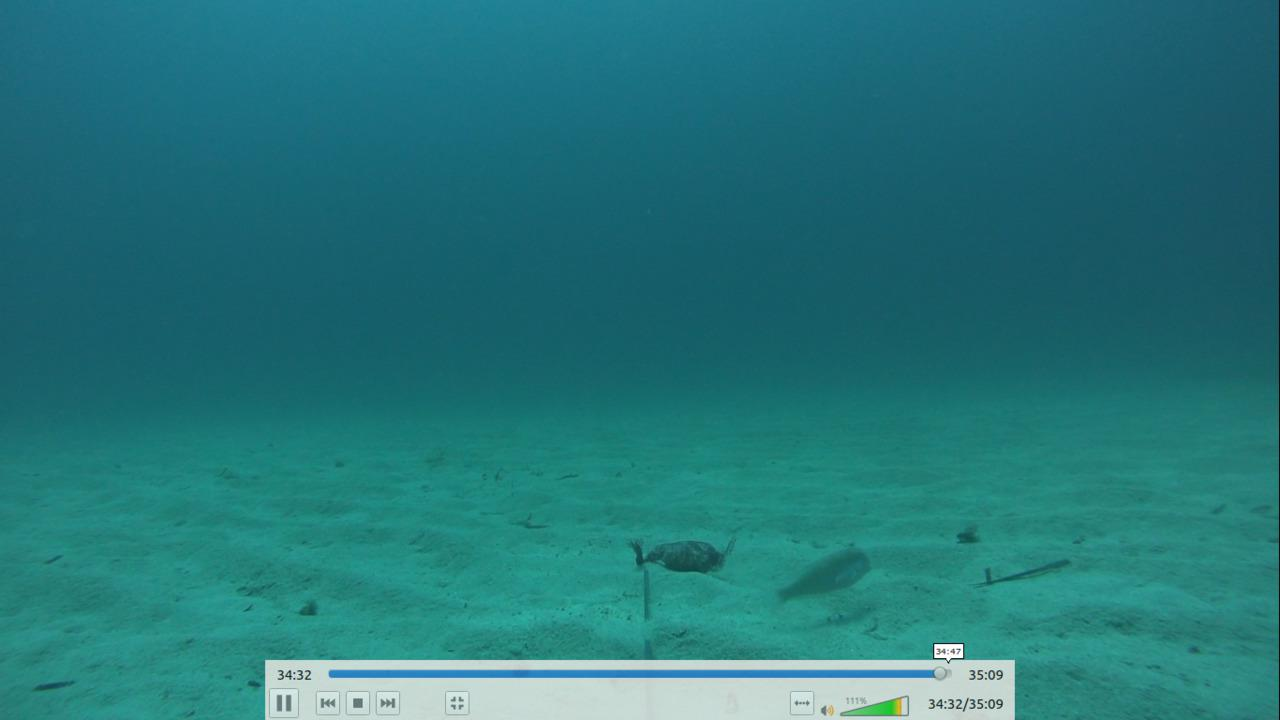raor: (777, 543, 872, 607)
